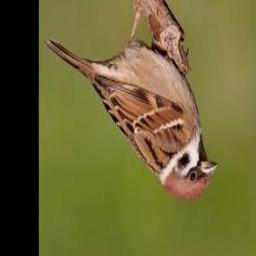Sparrow: (46, 12, 219, 200)
